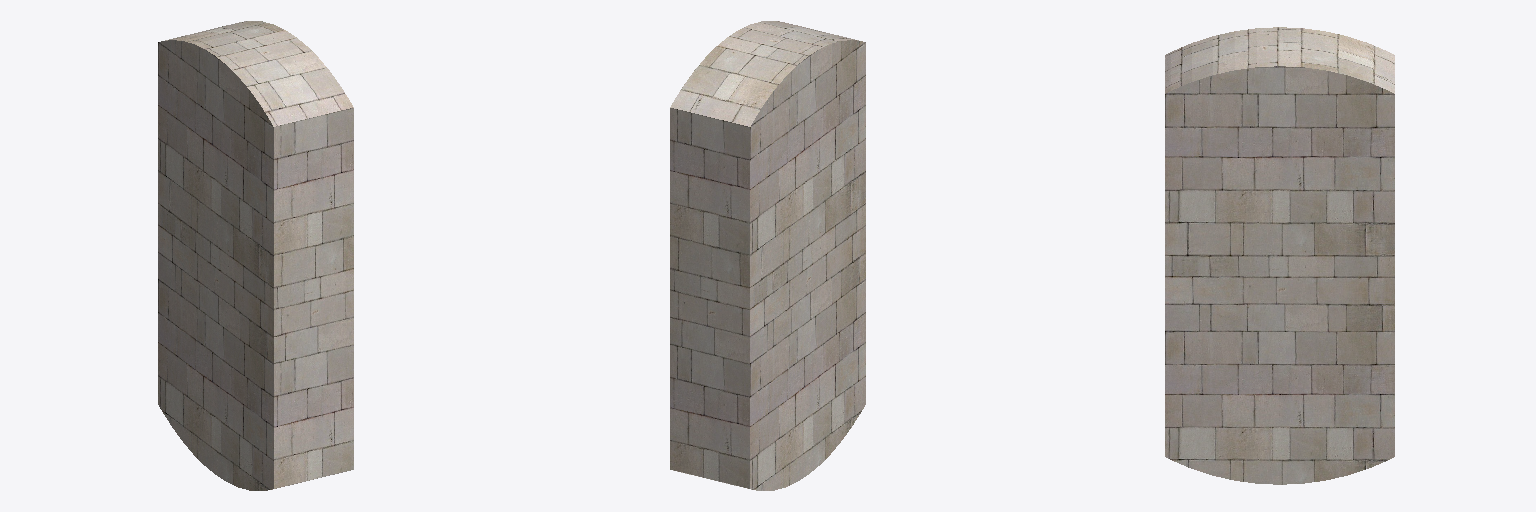
3 renders of one model, left to right at view 1: azimuth 30°, elevation 25°; view 2: azimuth 150°, elevation 25°; view 3: azimuth 270°, elevation 25°, orthographic.
Parts seen in each view (by area): view 1: Box003; view 2: Box003; view 3: Box003.
Part boxes in pixels (bbox=[...]): Box003: bbox=[158, 21, 353, 490]; Box003: bbox=[670, 21, 865, 490]; Box003: bbox=[1165, 27, 1394, 484].
Bounding box in the file's own units: 0.2 × 1 × 0.5.
Materials: 1 (1 with a texture image).